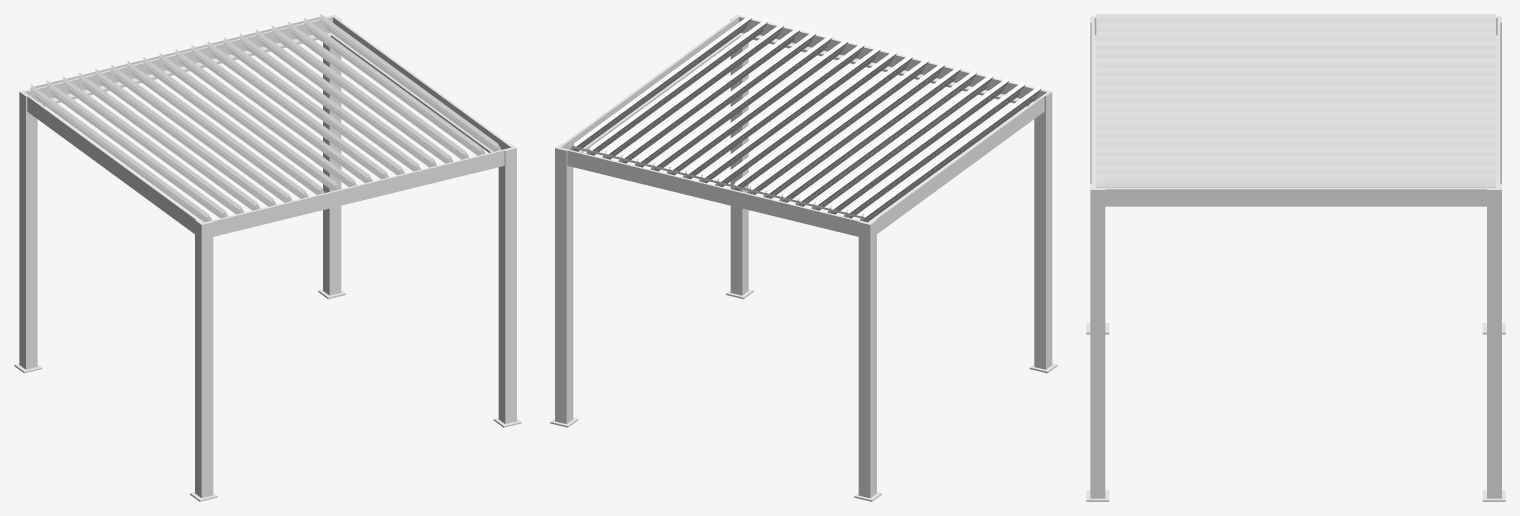
Rendered from patiomove_3-3_60_woodwhite.fbx.
3 views of the same model, side by side, from view 1: azimuth 30°, elevation 25°; view 2: azimuth 150°, elevation 25°; view 3: azimuth 270°, elevation 25° (orthographic). The views are drawn at different scales.
Parts seen in each view (by area): view 1: patiomove_3-3_60_white; view 2: patiomove_3-3_60_white; view 3: patiomove_3-3_60_white.
Boxes of the visible parts, left/top/right/bottom form: patiomove_3-3_60_white: left=14, top=14, right=521, bottom=501; patiomove_3-3_60_white: left=550, top=14, right=1057, bottom=501; patiomove_3-3_60_white: left=1086, top=14, right=1505, bottom=501.
Bounding box in the file's own units: 307 × 257 × 307.
1 material, 1 textured.
